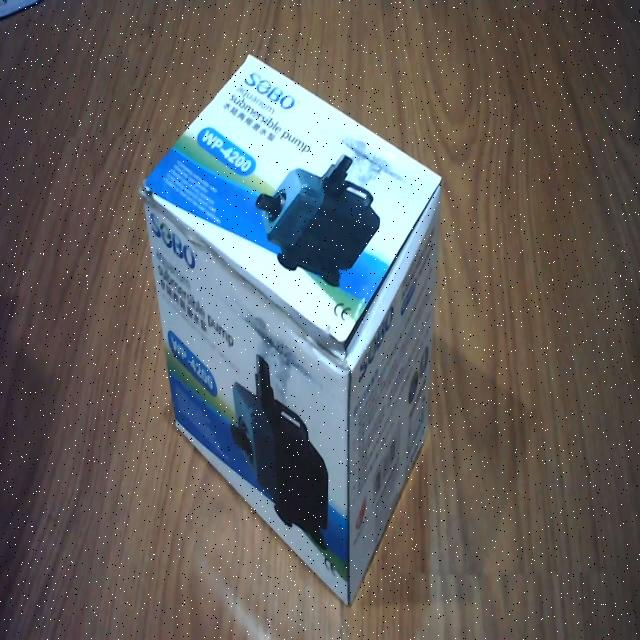SOBO_WP_4200: (136, 43, 450, 612)
